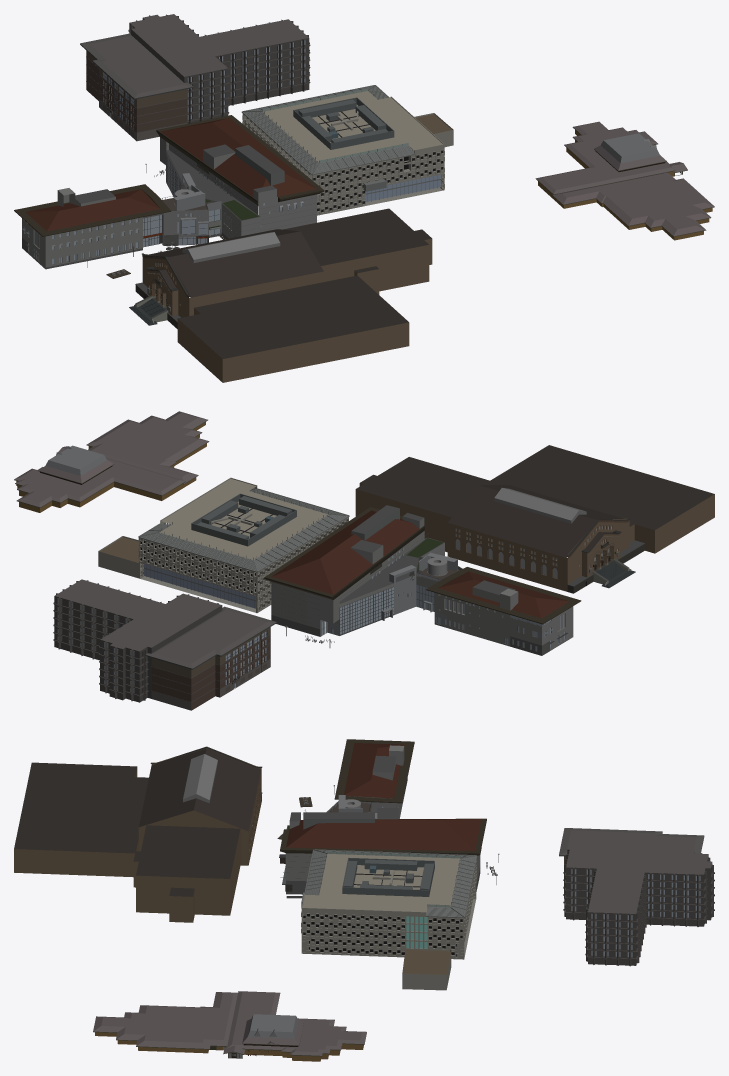
3 renders of one model, top to bottom at view 1: azimuth 30°, elevation 25°; view 2: azimuth 150°, elevation 25°; view 3: azimuth 270°, elevation 25°, orthographic.
Parts seen in each view (by area): view 1: opaque, glass (×2); view 2: opaque, glass; view 3: opaque, glass.
Boxes of the visible parts, left/top/right/bottom form: opaque: left=14, top=14, right=714, bottom=382; glass (×2): left=24, top=40, right=443, bottom=306; opaque: left=14, top=411, right=714, bottom=710; glass: left=58, top=520, right=617, bottom=692; opaque: left=14, top=739, right=714, bottom=1061; glass: left=219, top=803, right=700, bottom=1058.
Bounding box in the file's own units: 285 × 29.55 × 294.
Materials: 3 (3 with a texture image).
